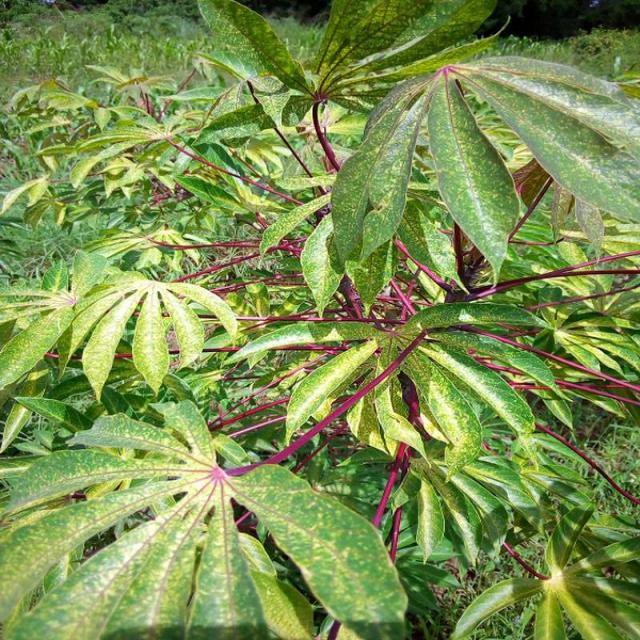cassava leaf: (0, 1, 638, 637), (1, 397, 408, 638), (329, 52, 638, 304)
